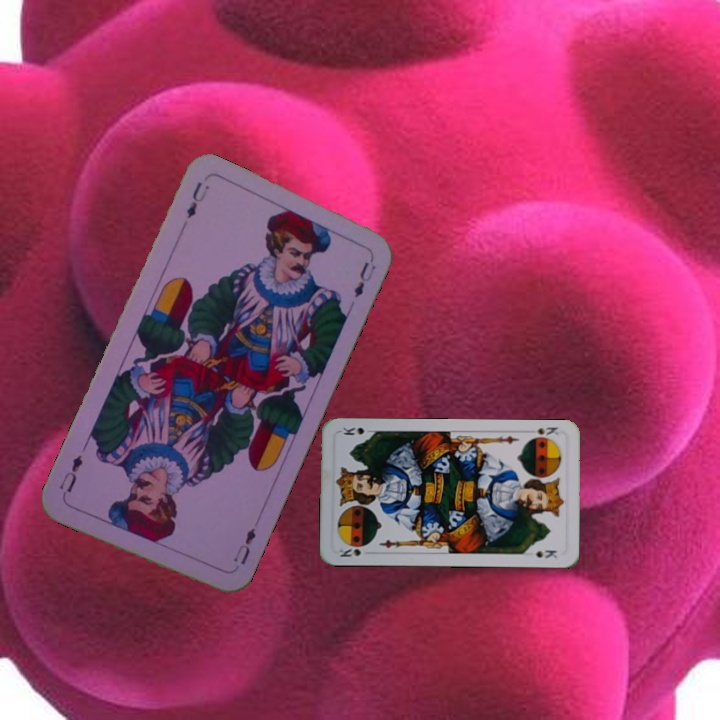EU: (182, 177, 212, 222), (229, 524, 259, 568)
SK: (524, 423, 561, 438), (335, 544, 363, 559)
